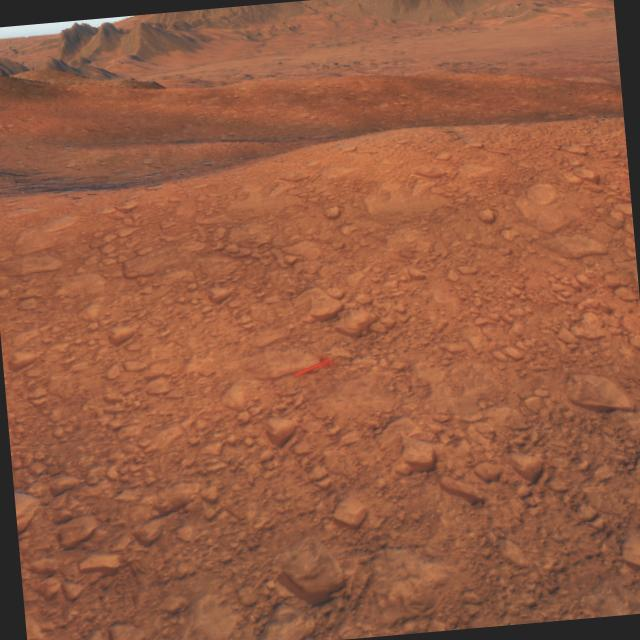newhammer: (292, 355, 333, 377)
